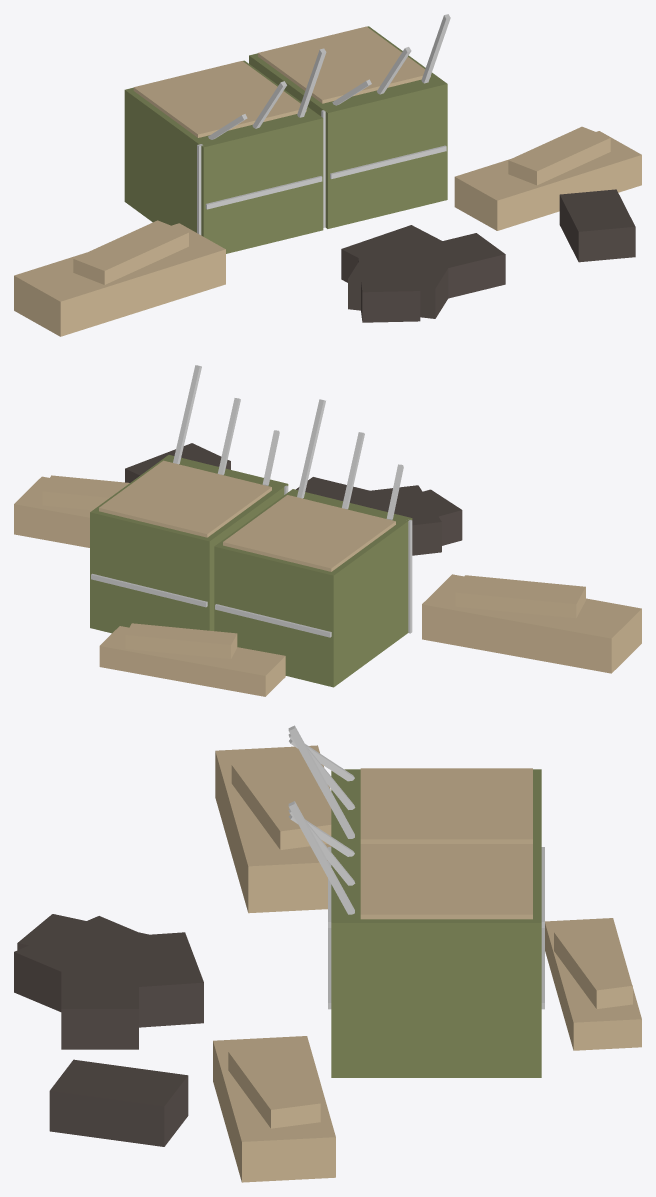
Rendered from SM_HescoCorto2_v4_Red_e2_MuyDanado_LOD0.fbx.
The picture shows the model from 3 angles, top to bottom: view 1: azimuth 30°, elevation 25°; view 2: azimuth 150°, elevation 25°; view 3: azimuth 270°, elevation 25°; orthographic projection. The views are drawn at different scales.
Parts seen in each view (by area): view 1: SM_hesco_piezas_v78_LOD0; view 2: SM_hesco_piezas_v78_LOD0; view 3: SM_hesco_piezas_v78_LOD0.
Part boxes in pixels (left/top/right/bottom): SM_hesco_piezas_v78_LOD0: left=14, top=14, right=641, bottom=336; SM_hesco_piezas_v78_LOD0: left=14, top=365, right=641, bottom=696; SM_hesco_piezas_v78_LOD0: left=14, top=725, right=641, bottom=1182.
Size of the model in its own units: 5.36 by 1.7 by 3.64.
